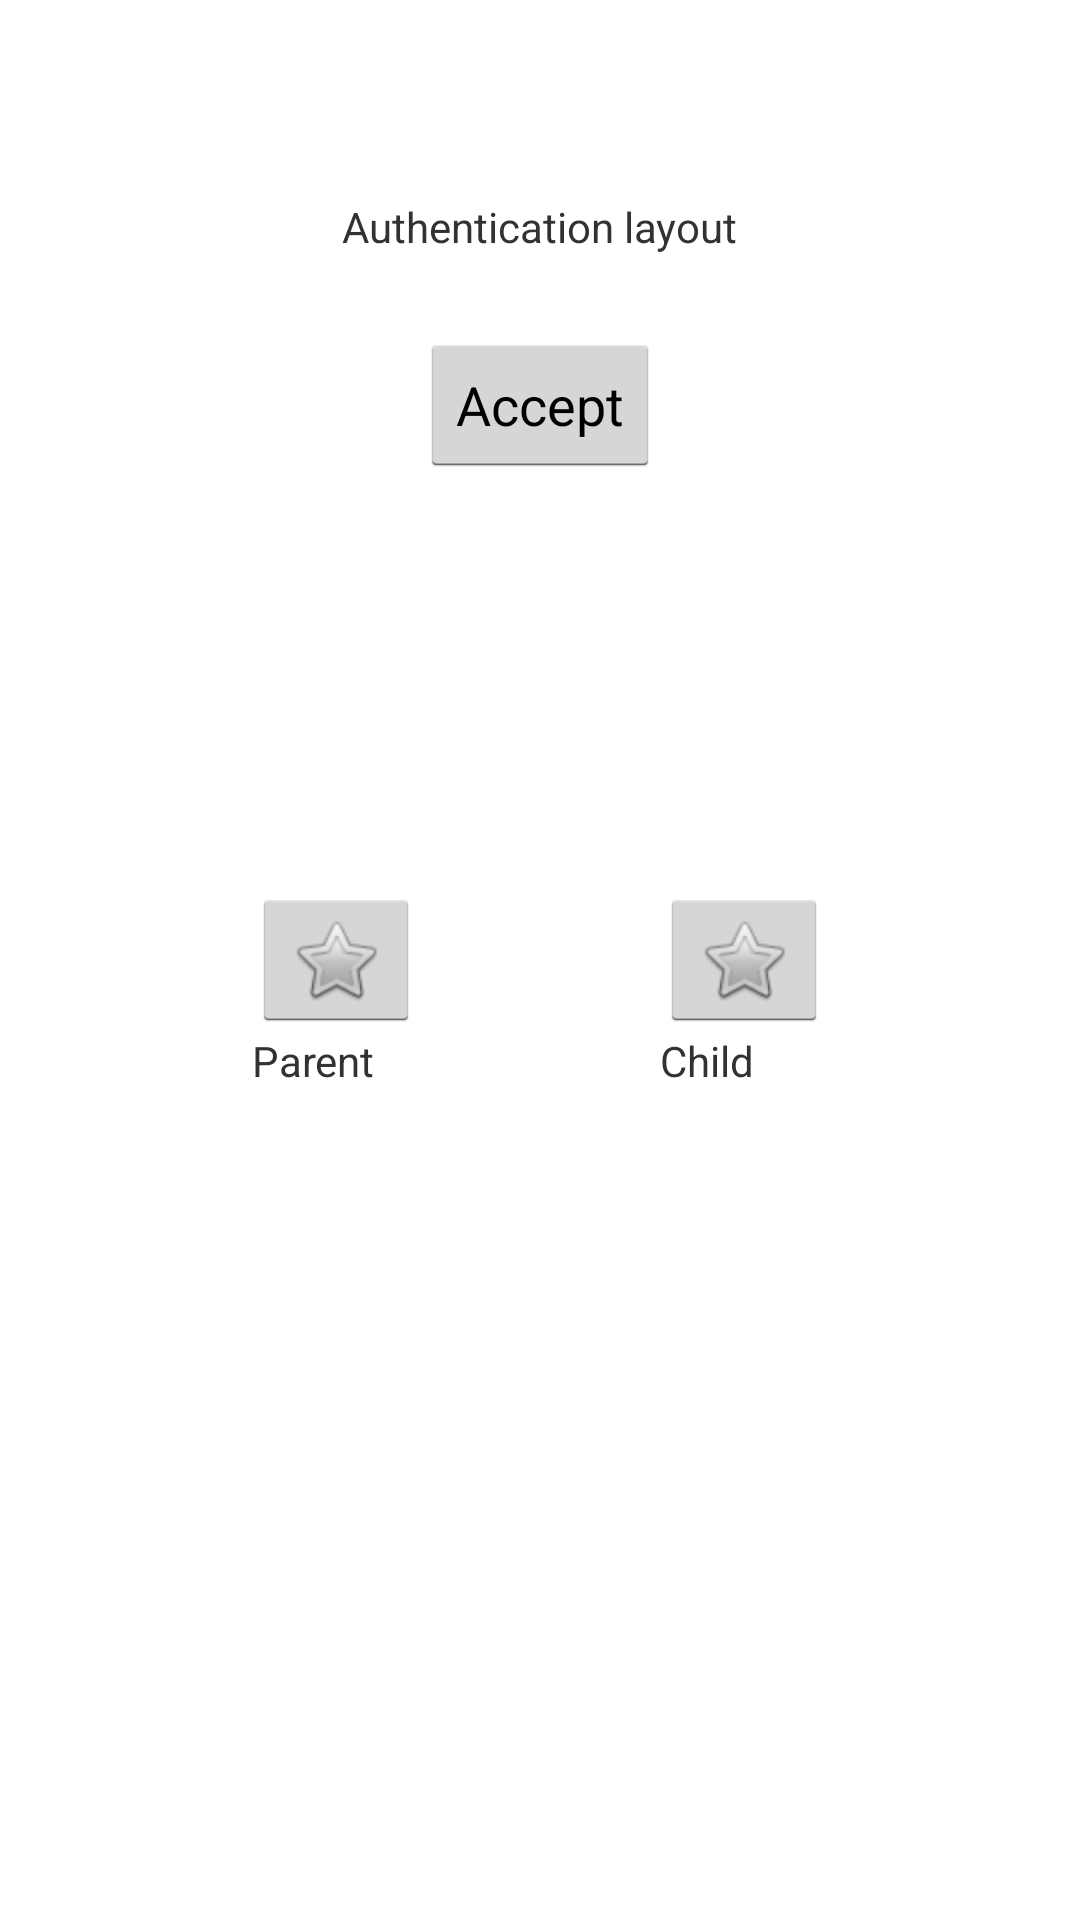

Screen size 1080px×1920px. Icon name, then its center in pixels as (x=x, y=y):
star: (x=336, y=961), (x=744, y=961)
